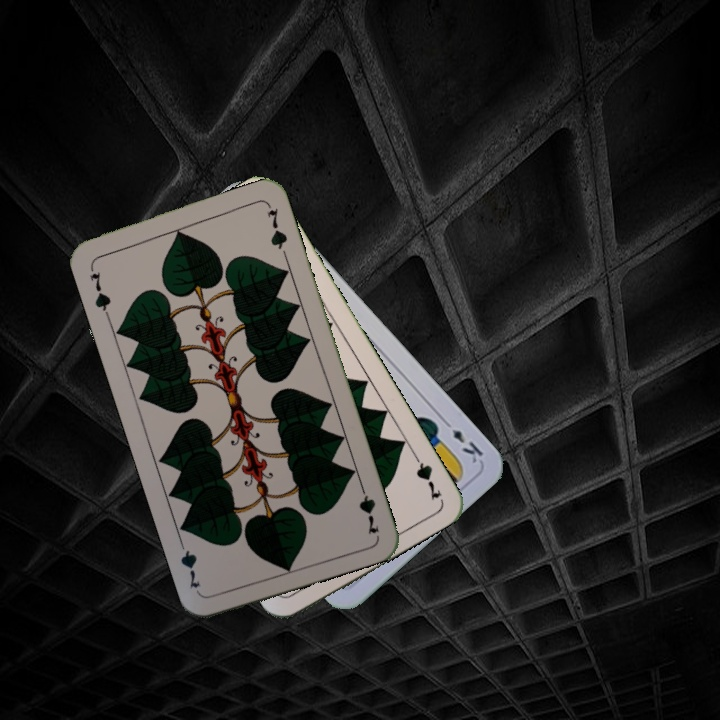EK: (438, 415, 486, 466)
G7: (407, 447, 444, 503), (85, 261, 114, 319), (355, 478, 382, 537)
